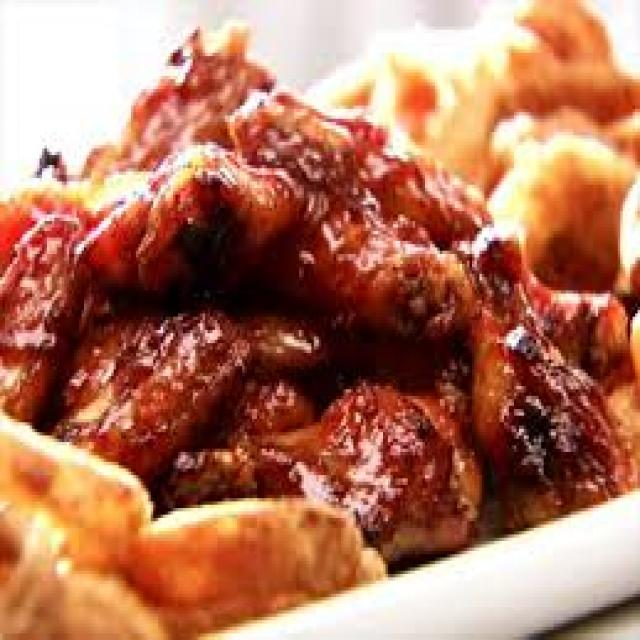Chicken Wings: (2, 16, 618, 528)
